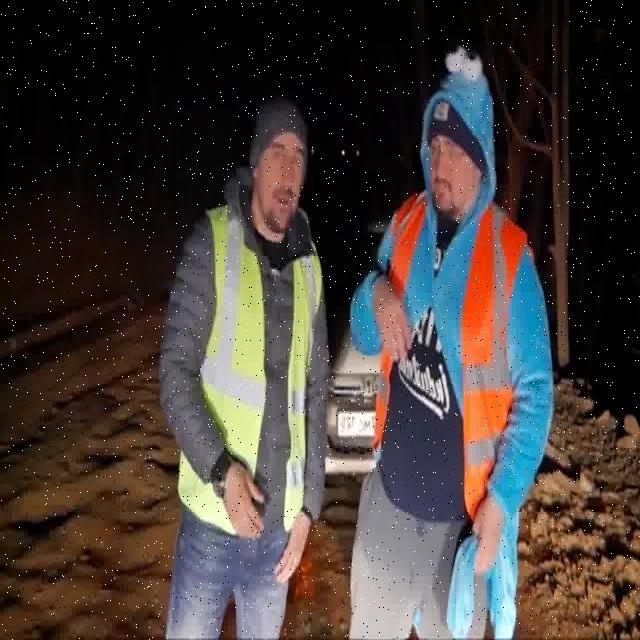Vest: (375, 193, 524, 492), (178, 208, 318, 522)
